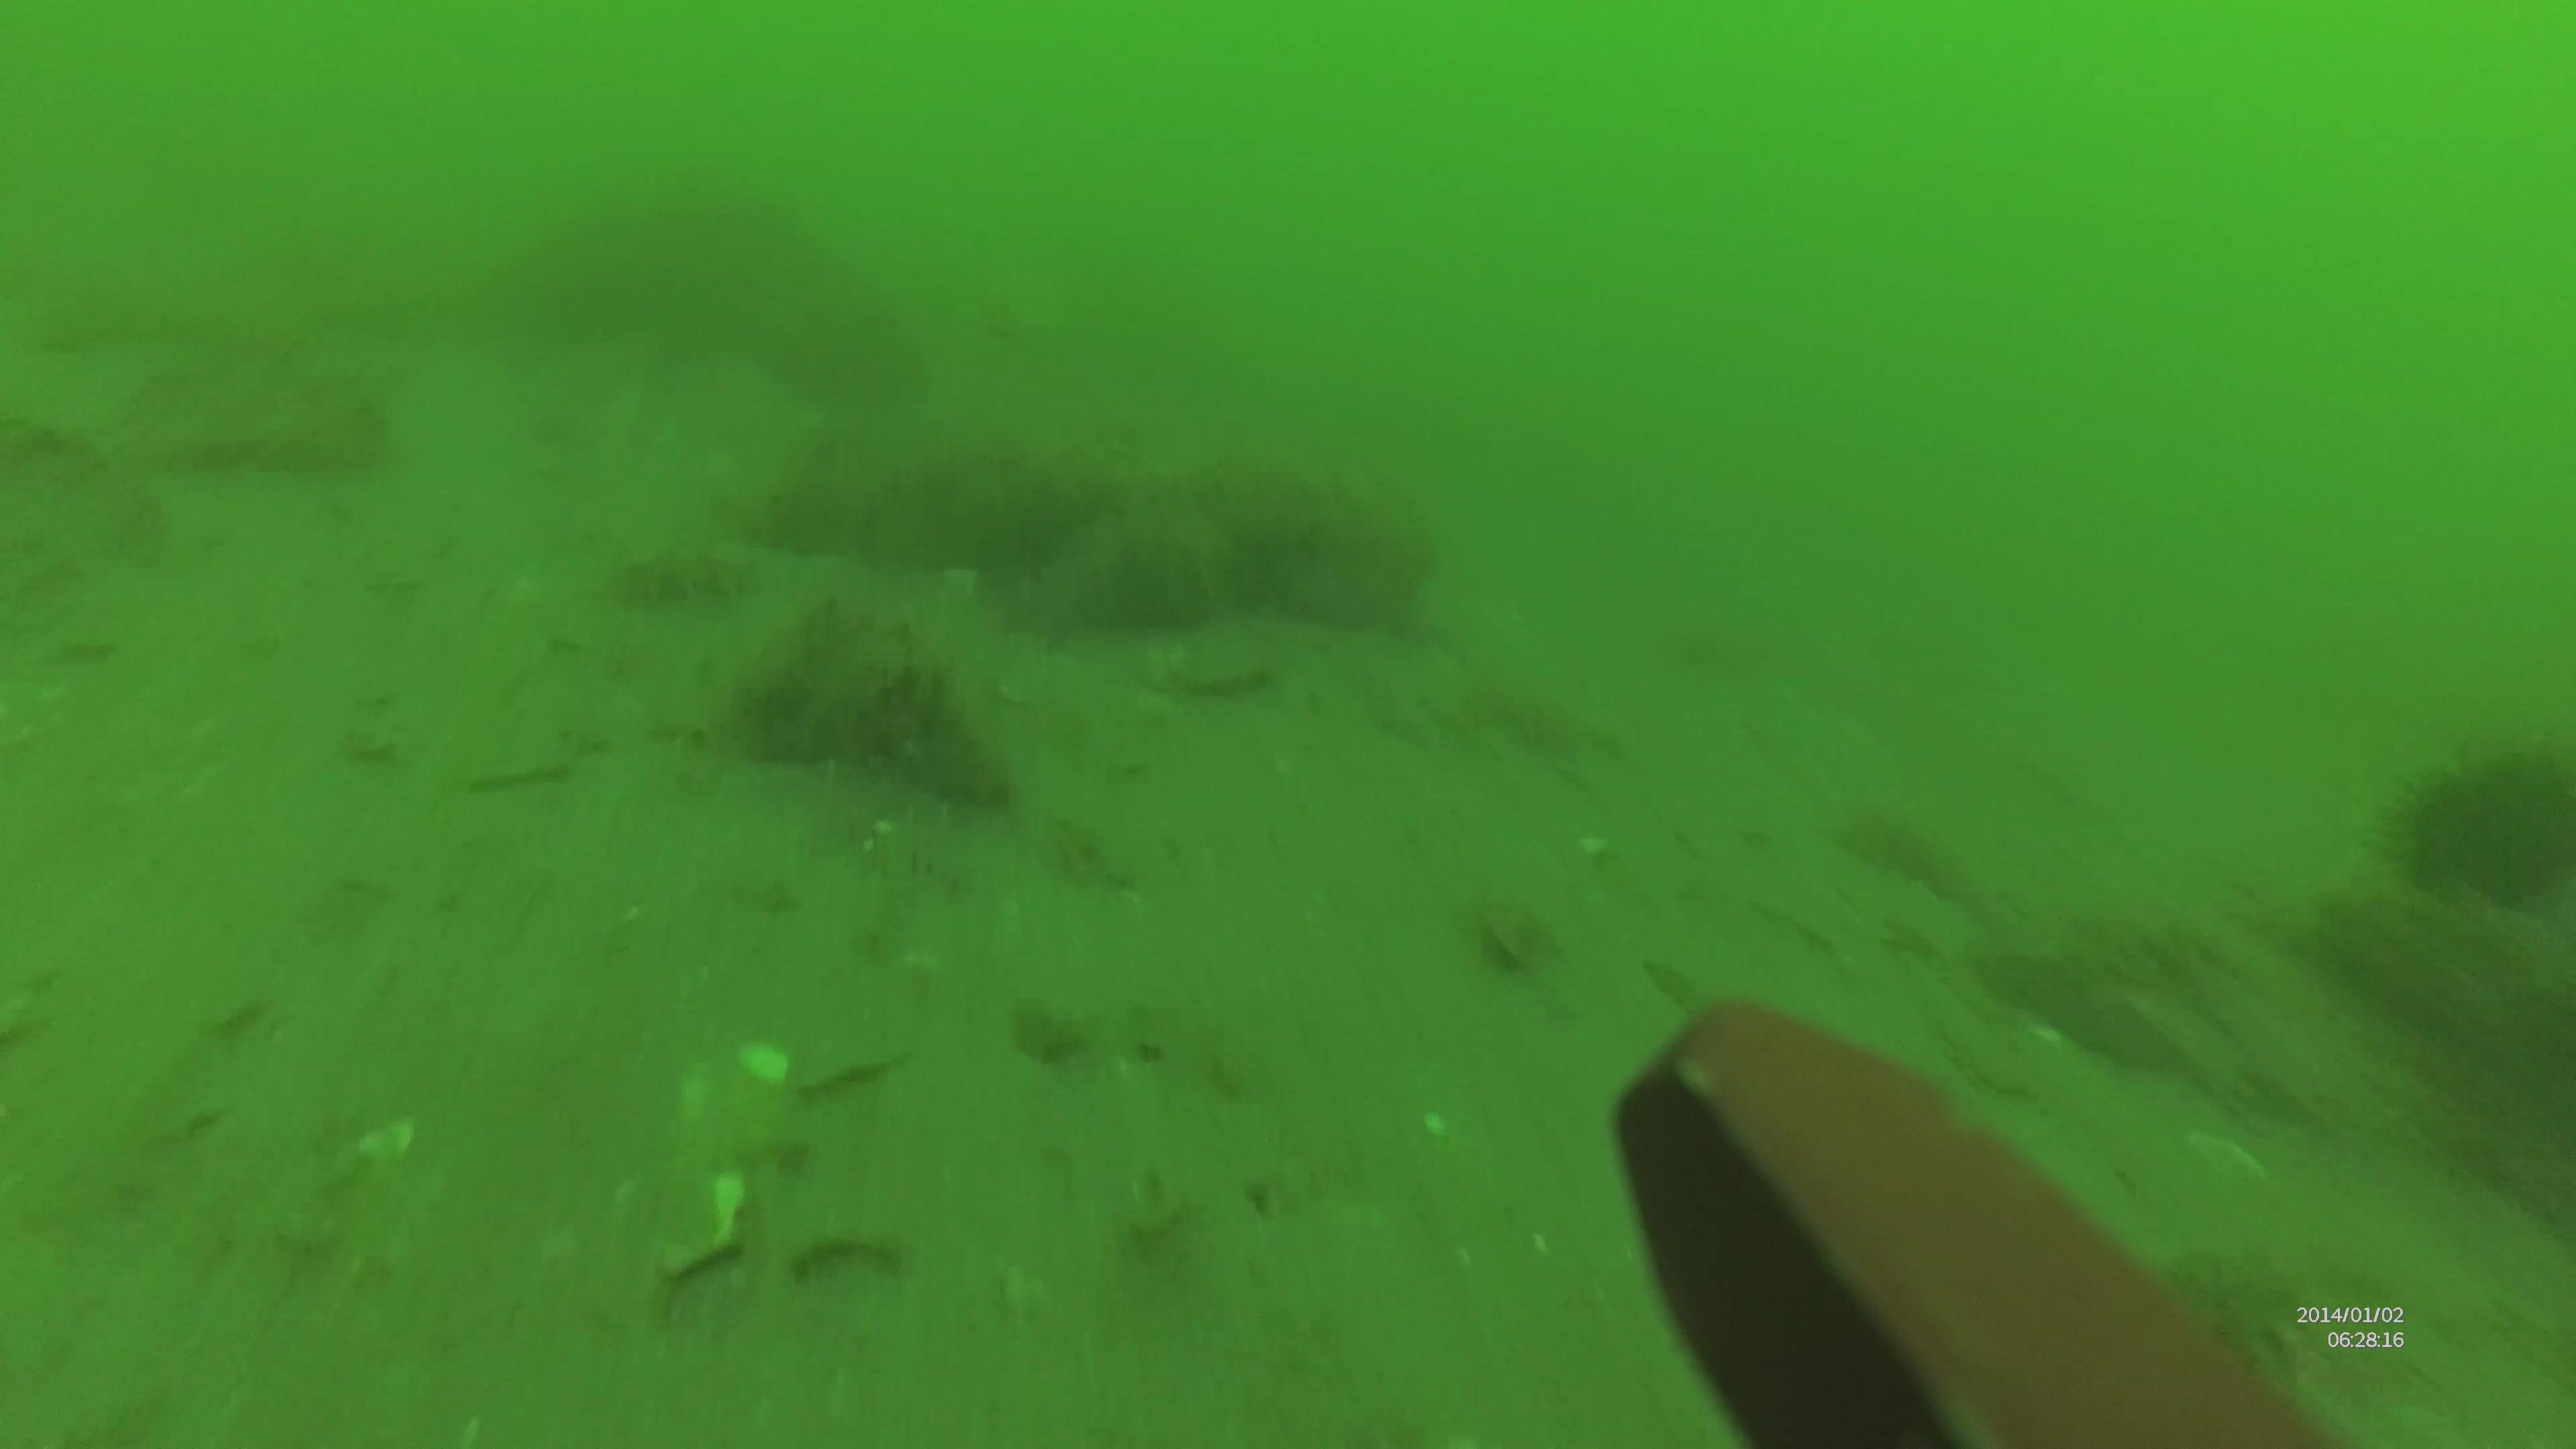echinus: (2387, 731, 2576, 911)
holothurian: (614, 534, 763, 614)
